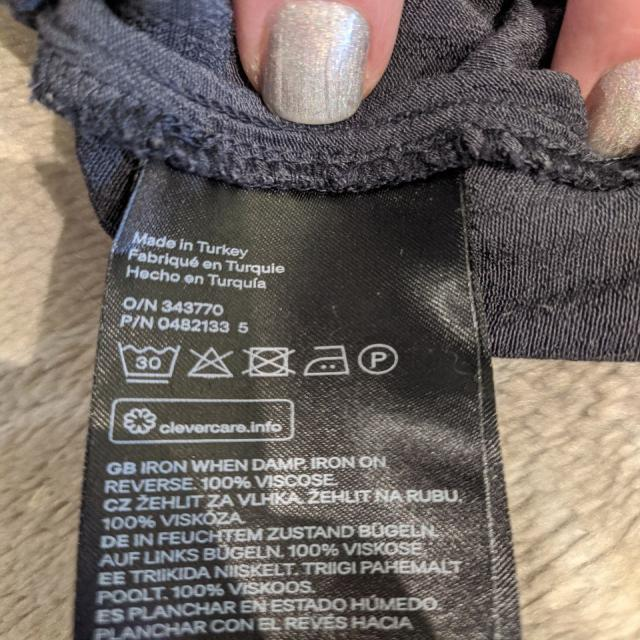30C: (113, 337, 186, 386)
DN_bleach: (184, 341, 241, 381)
DN_tumble_dry: (242, 340, 297, 383)
dry_clean_any_solvent_except_trichloroethylene: (358, 340, 402, 377)
iron_medium: (301, 338, 352, 380)
